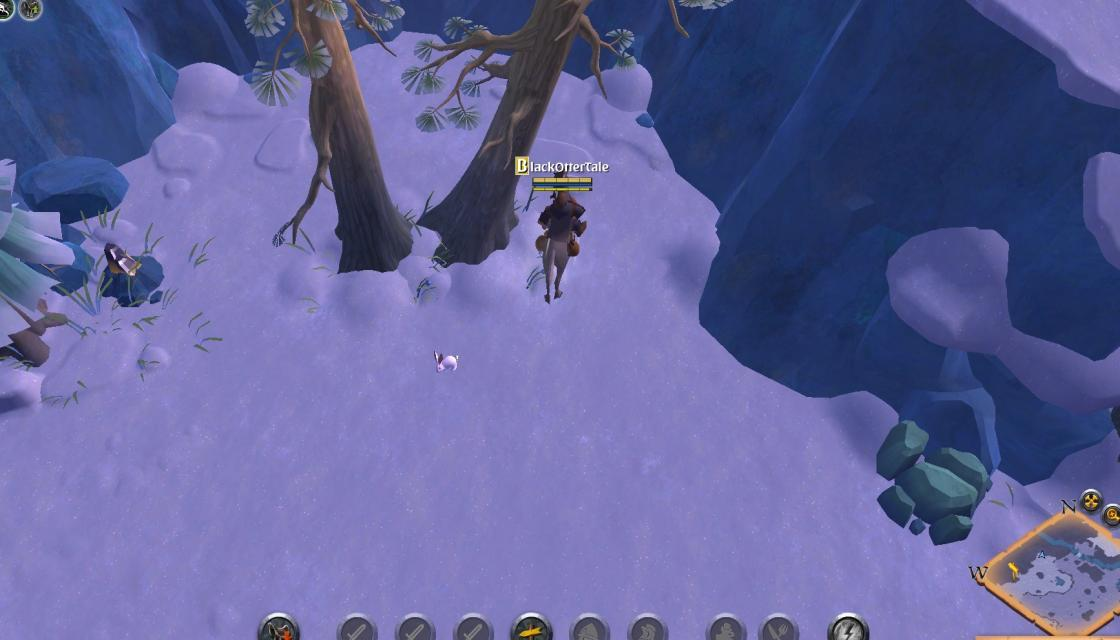copperore: (94, 244, 170, 308)
sandstone: (875, 416, 994, 548)
